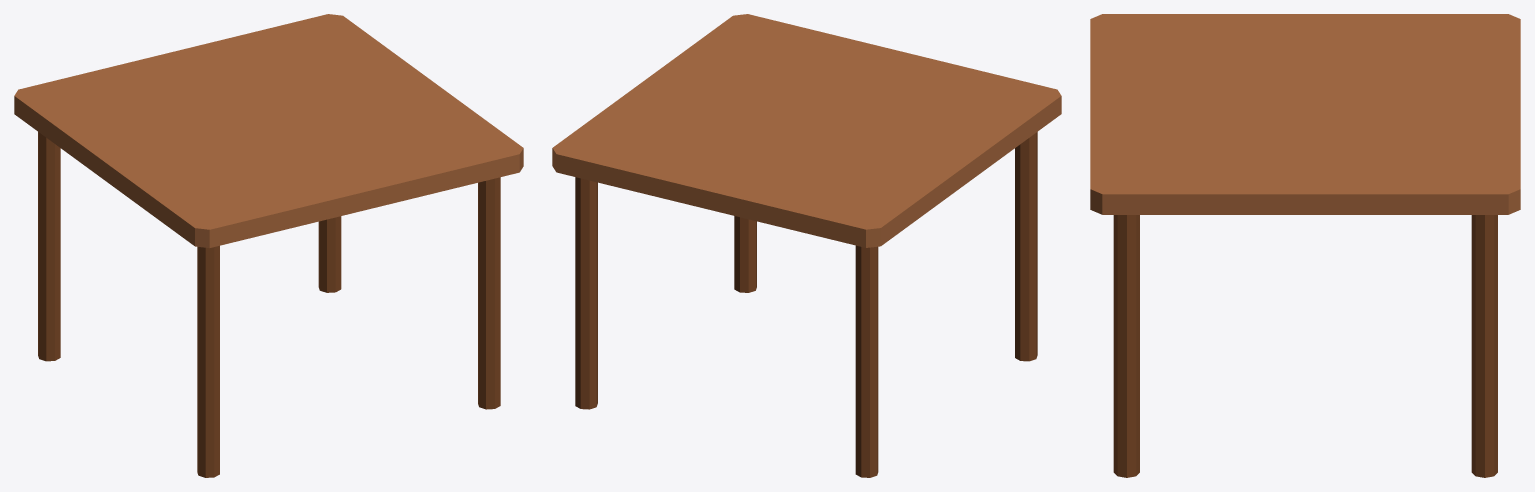
Rendered from Table.fbx.
3 views of the same model, side by side, from view 1: azimuth 30°, elevation 25°; view 2: azimuth 150°, elevation 25°; view 3: azimuth 270°, elevation 25° (orthographic). The views are drawn at different scales.
Visible parts, largest first — view 1: Cube.8181; view 2: Cube.8181; view 3: Cube.8181.
Part boxes in pixels (x1,y1,x2,y2): Cube.8181: (14,14,523,477); Cube.8181: (552,14,1061,477); Cube.8181: (1090,14,1520,477).
Size of the model in its own units: 136 by 102 by 137.
Materials: 1 (1 with a texture image).
